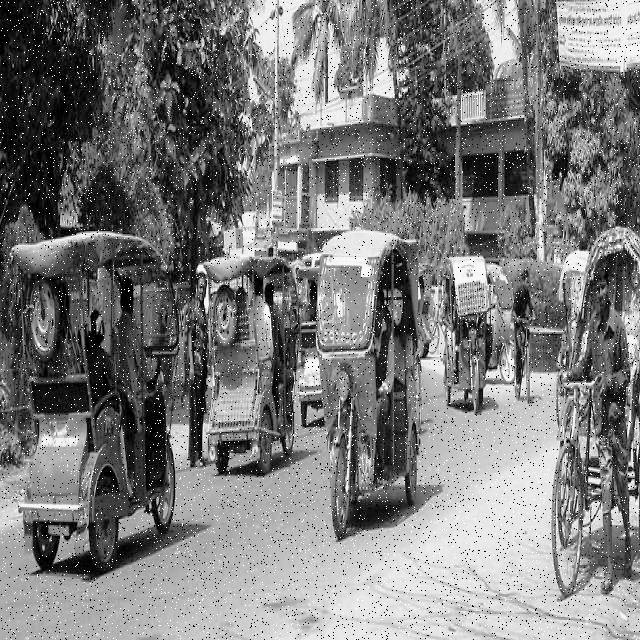Toto: (24, 226, 175, 575), (324, 238, 424, 546), (201, 256, 306, 482), (442, 252, 490, 407)
